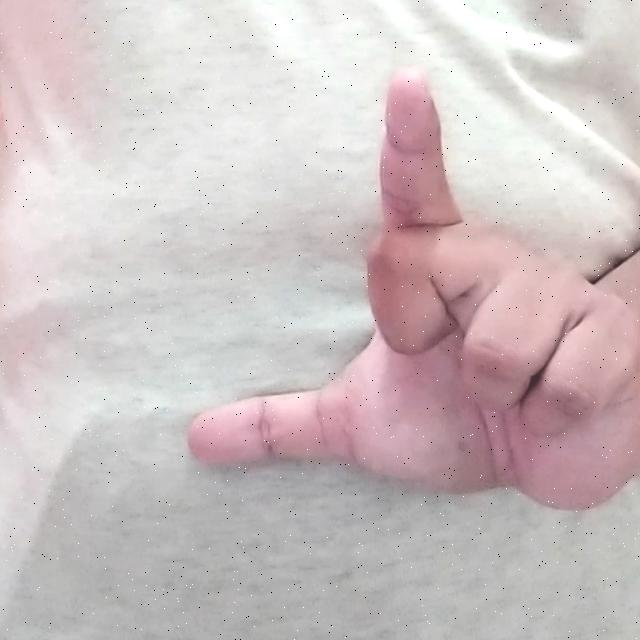L: (173, 60, 637, 521)
